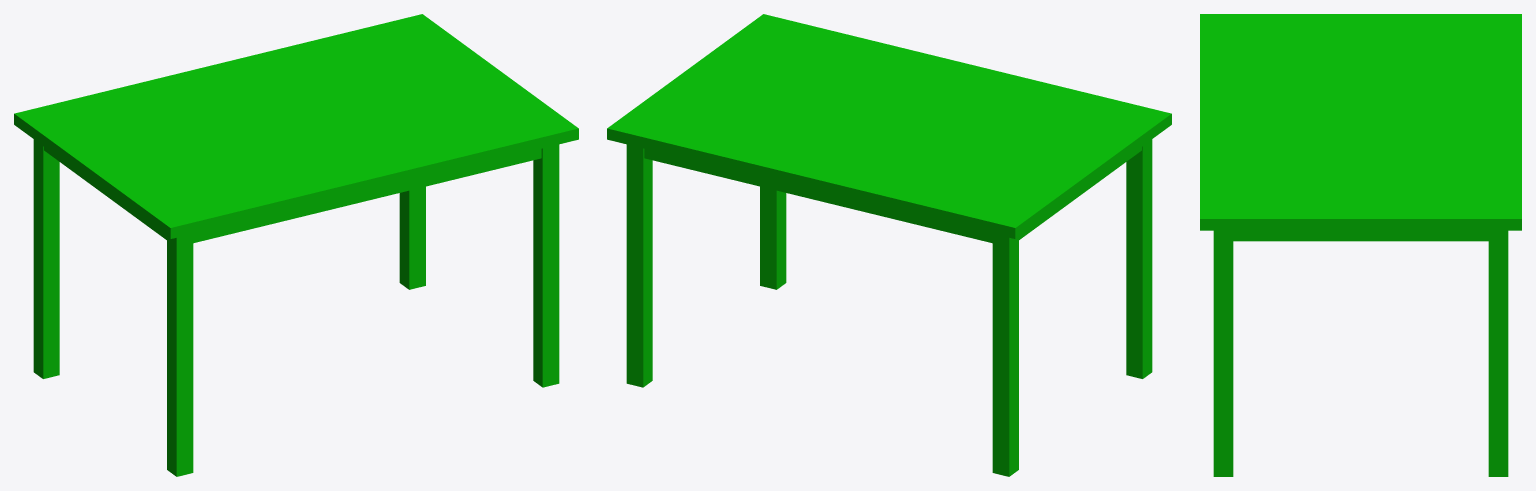
The model's file is UCX_Table1.fbx.
The picture shows the model from 3 angles, left to right: view 1: azimuth 30°, elevation 25°; view 2: azimuth 150°, elevation 25°; view 3: azimuth 270°, elevation 25°; orthographic projection. The views are drawn at different scales.
Parts seen in each view (by area): view 1: UCX_Table1; view 2: UCX_Table1; view 3: UCX_Table1.
Part boxes in pixels (x1=…): UCX_Table1: x1=14, y1=14, x2=578, y2=476; UCX_Table1: x1=607, y1=14, x2=1171, y2=476; UCX_Table1: x1=1200, y1=14, x2=1521, y2=476.
Bounding box in the file's own units: 1.17 × 0.7007 × 0.773.
